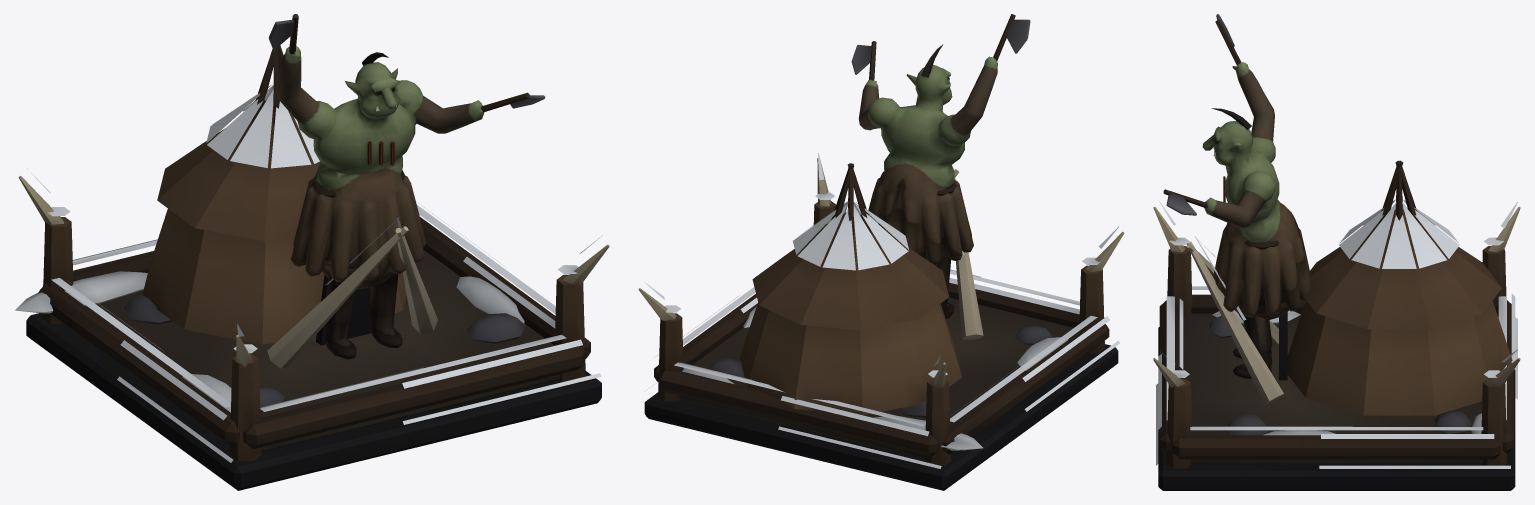
Rendered from horde-1.glb.
3 renders of one model, left to right at view 1: azimuth 30°, elevation 25°; view 2: azimuth 150°, elevation 25°; view 3: azimuth 270°, elevation 25°, orthographic. The views are drawn at different scales.
Visible parts, largest first — view 1: orage_1_architecture, orage_1_berserker, orage_1_berserker_accessoires; view 2: orage_1_architecture, orage_1_berserker, orage_1_berserker_accessoires; view 3: orage_1_architecture, orage_1_berserker, orage_1_berserker_accessoires.
Part boxes in pixels (x1=…): orage_1_architecture: x1=15, y1=45, x2=609, y2=490; orage_1_berserker: x1=276, y1=46, x2=484, y2=359; orage_1_berserker_accessoires: x1=268, y1=14, x2=545, y2=197; orage_1_architecture: x1=638, y1=153, x2=1124, y2=490; orage_1_berserker: x1=858, y1=56, x2=997, y2=318; orage_1_berserker_accessoires: x1=851, y1=14, x2=1030, y2=195; orage_1_architecture: x1=1153, y1=160, x2=1520, y2=490; orage_1_berserker: x1=1202, y1=62, x2=1310, y2=378; orage_1_berserker_accessoires: x1=1163, y1=14, x2=1279, y2=249.
Size of the model in its own units: 0.8655 by 0.8925 by 0.8237.
Materials: 2 (1 with a texture image).
